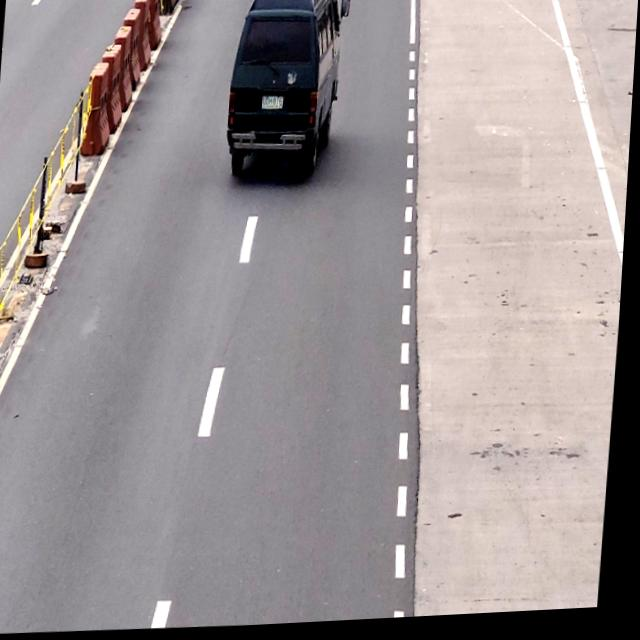Car: (225, 0, 344, 183)
License-Plate: (262, 95, 285, 115)
